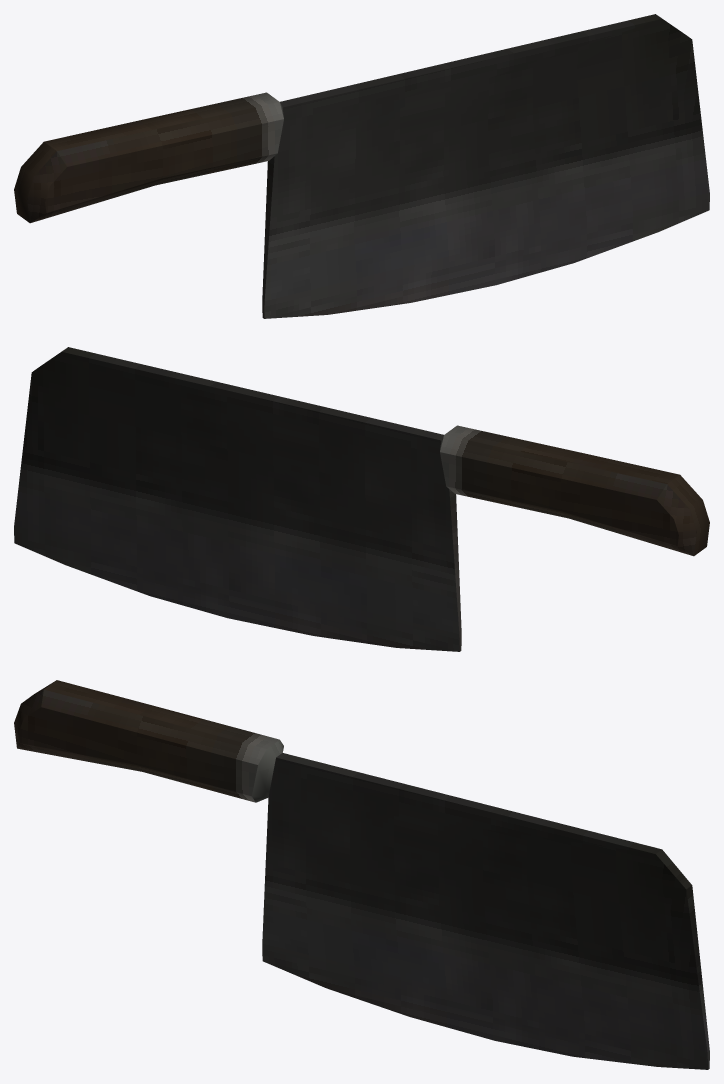
File: shop-item-1024.glb
3 renders of one model, top to bottom at view 1: azimuth 30°, elevation 25°; view 2: azimuth 150°, elevation 25°; view 3: azimuth 330°, elevation 25°, orthographic.
Visible parts, largest first — view 1: butcher_knife_mp_1; view 2: butcher_knife_mp_1; view 3: butcher_knife_mp_1.
Boxes of the visible parts, <box> form: butcher_knife_mp_1: <box>14,14,709,318</box>; butcher_knife_mp_1: <box>14,347,709,651</box>; butcher_knife_mp_1: <box>14,680,709,1069</box>.
Size of the model in its own units: 0.5095 by 0.1745 by 0.0334.
Materials: 1 (1 with a texture image).
